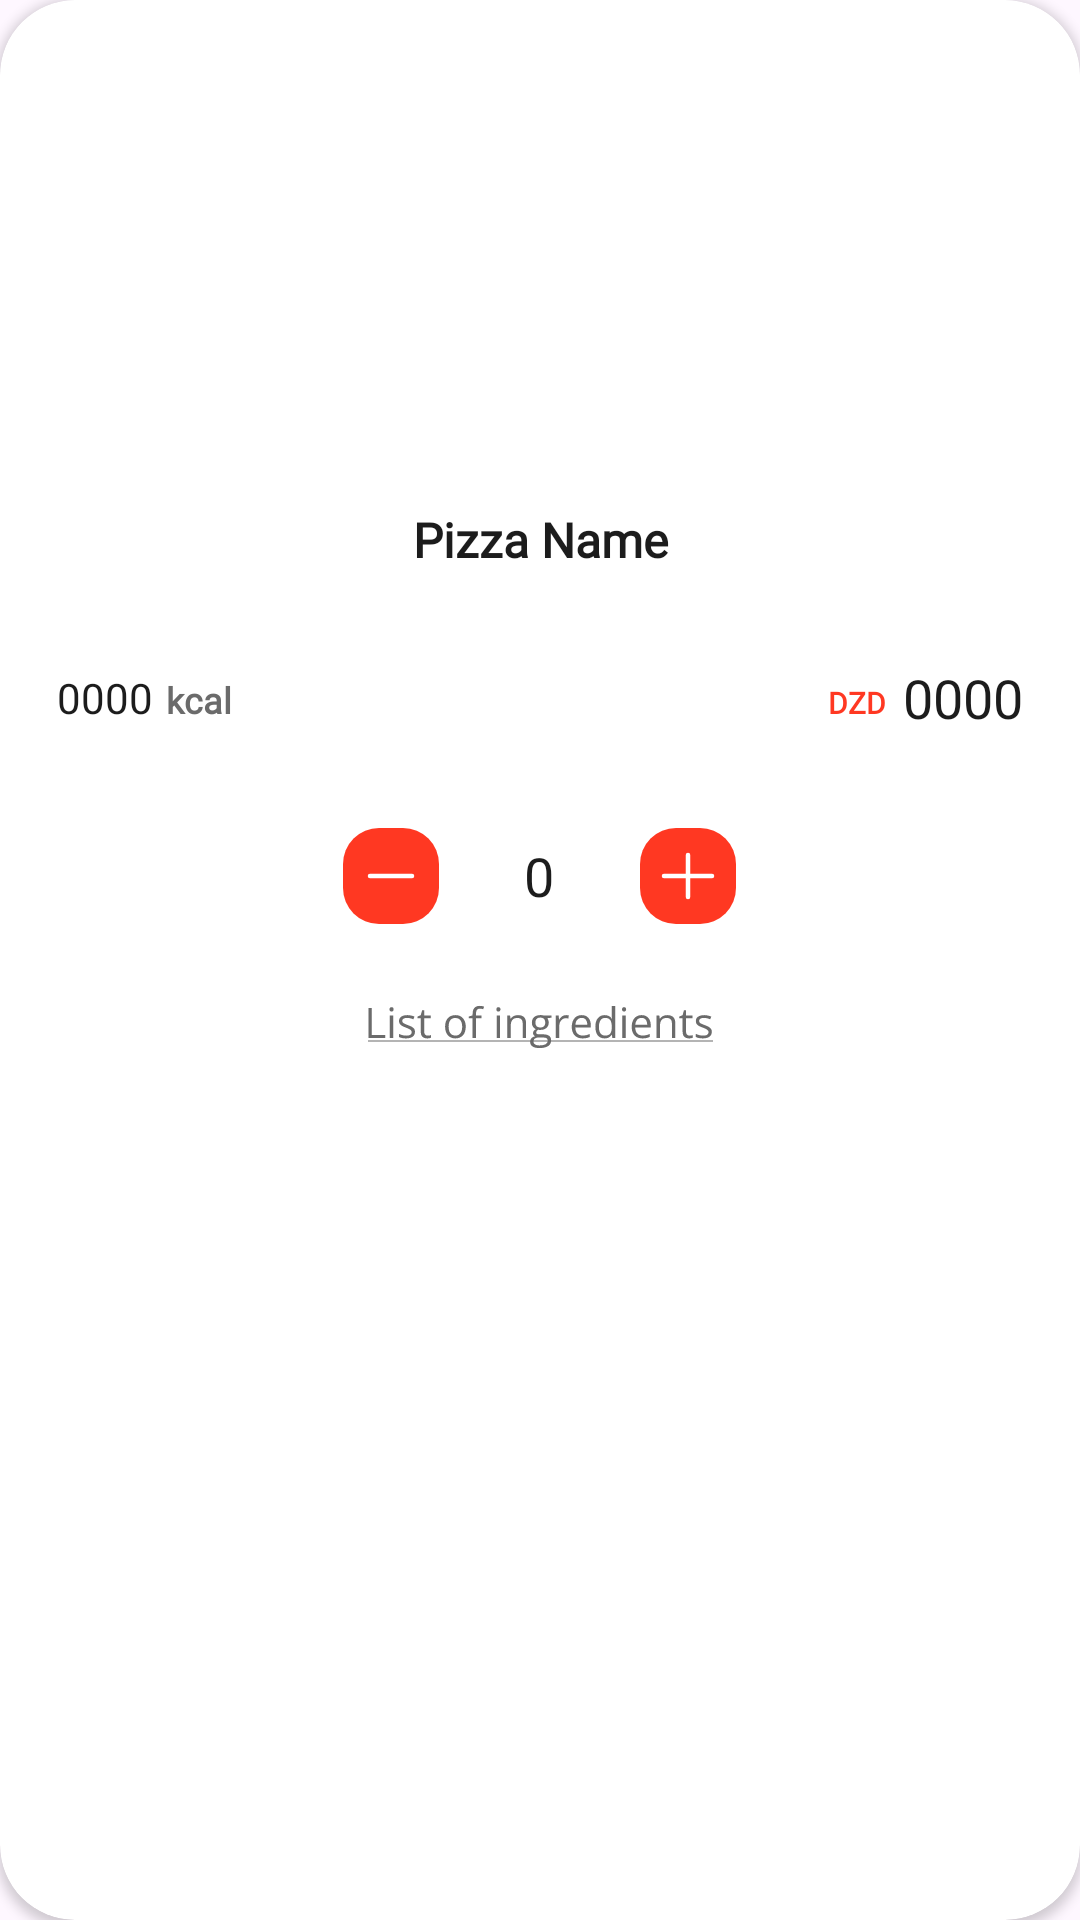

Where to tap for icons on this 1080w x 1920h app screen, as (x=x, y=y):
add: (x=688, y=876)
remove: (x=391, y=876)
